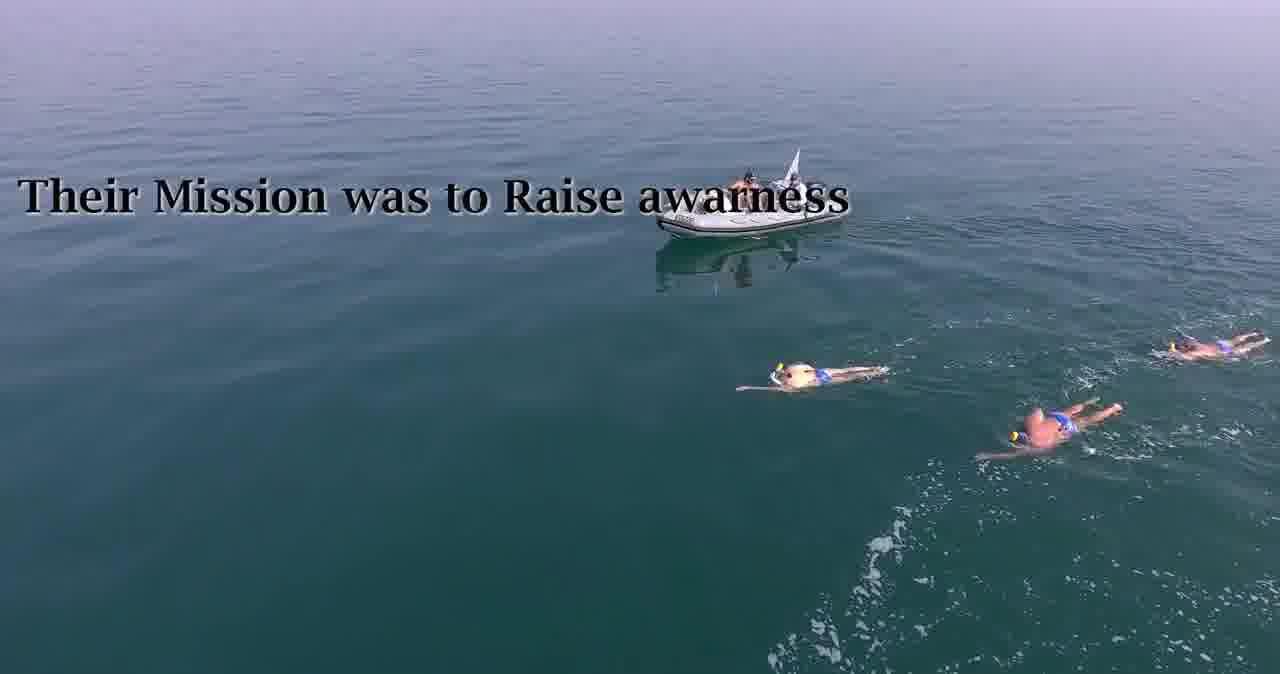swimmer: (968, 396, 1124, 460), (1161, 324, 1275, 366), (732, 362, 890, 392)
